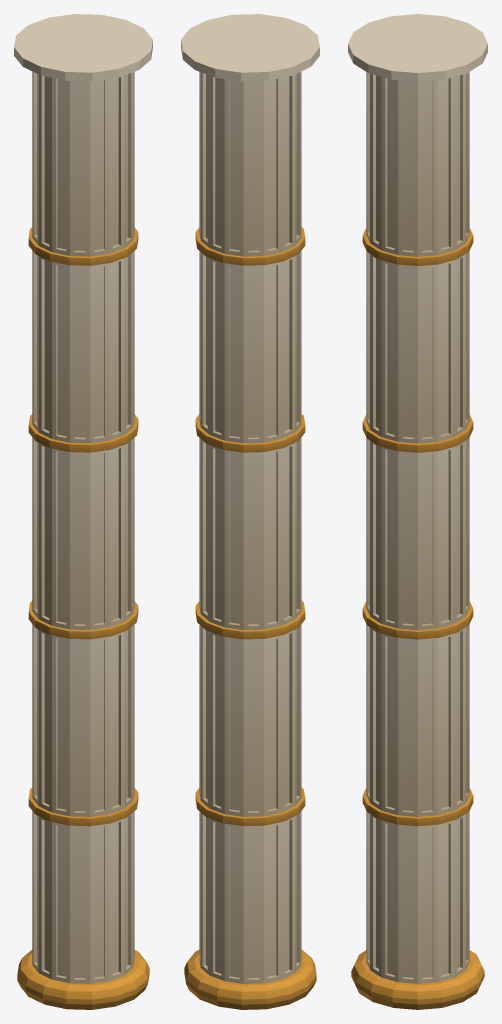
File: SM_Pillar.fbx
3 renders of one model, left to right at view 1: azimuth 30°, elevation 25°; view 2: azimuth 150°, elevation 25°; view 3: azimuth 270°, elevation 25°, orthographic.
Parts seen in each view (by area): view 1: Pillar; view 2: Pillar; view 3: Pillar.
Boxes of the visible parts, x1,y1,x2,y2 form: Pillar: [14, 14, 152, 1009]; Pillar: [181, 14, 319, 1009]; Pillar: [348, 14, 487, 1009].
Bounding box in the file's own units: 2.72 × 20.19 × 2.72.
1 material, 1 textured.
